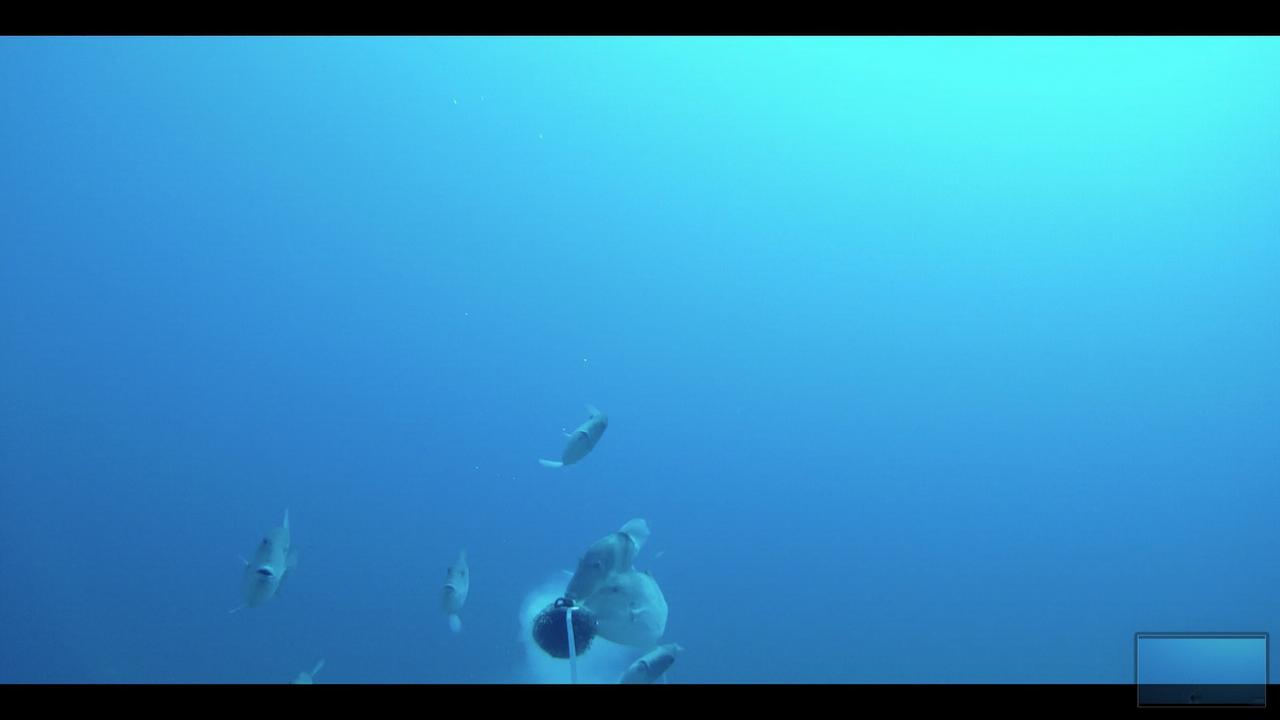balistes: (216, 501, 316, 624), (579, 566, 675, 663), (565, 511, 657, 602), (533, 399, 613, 470), (435, 544, 474, 641)
